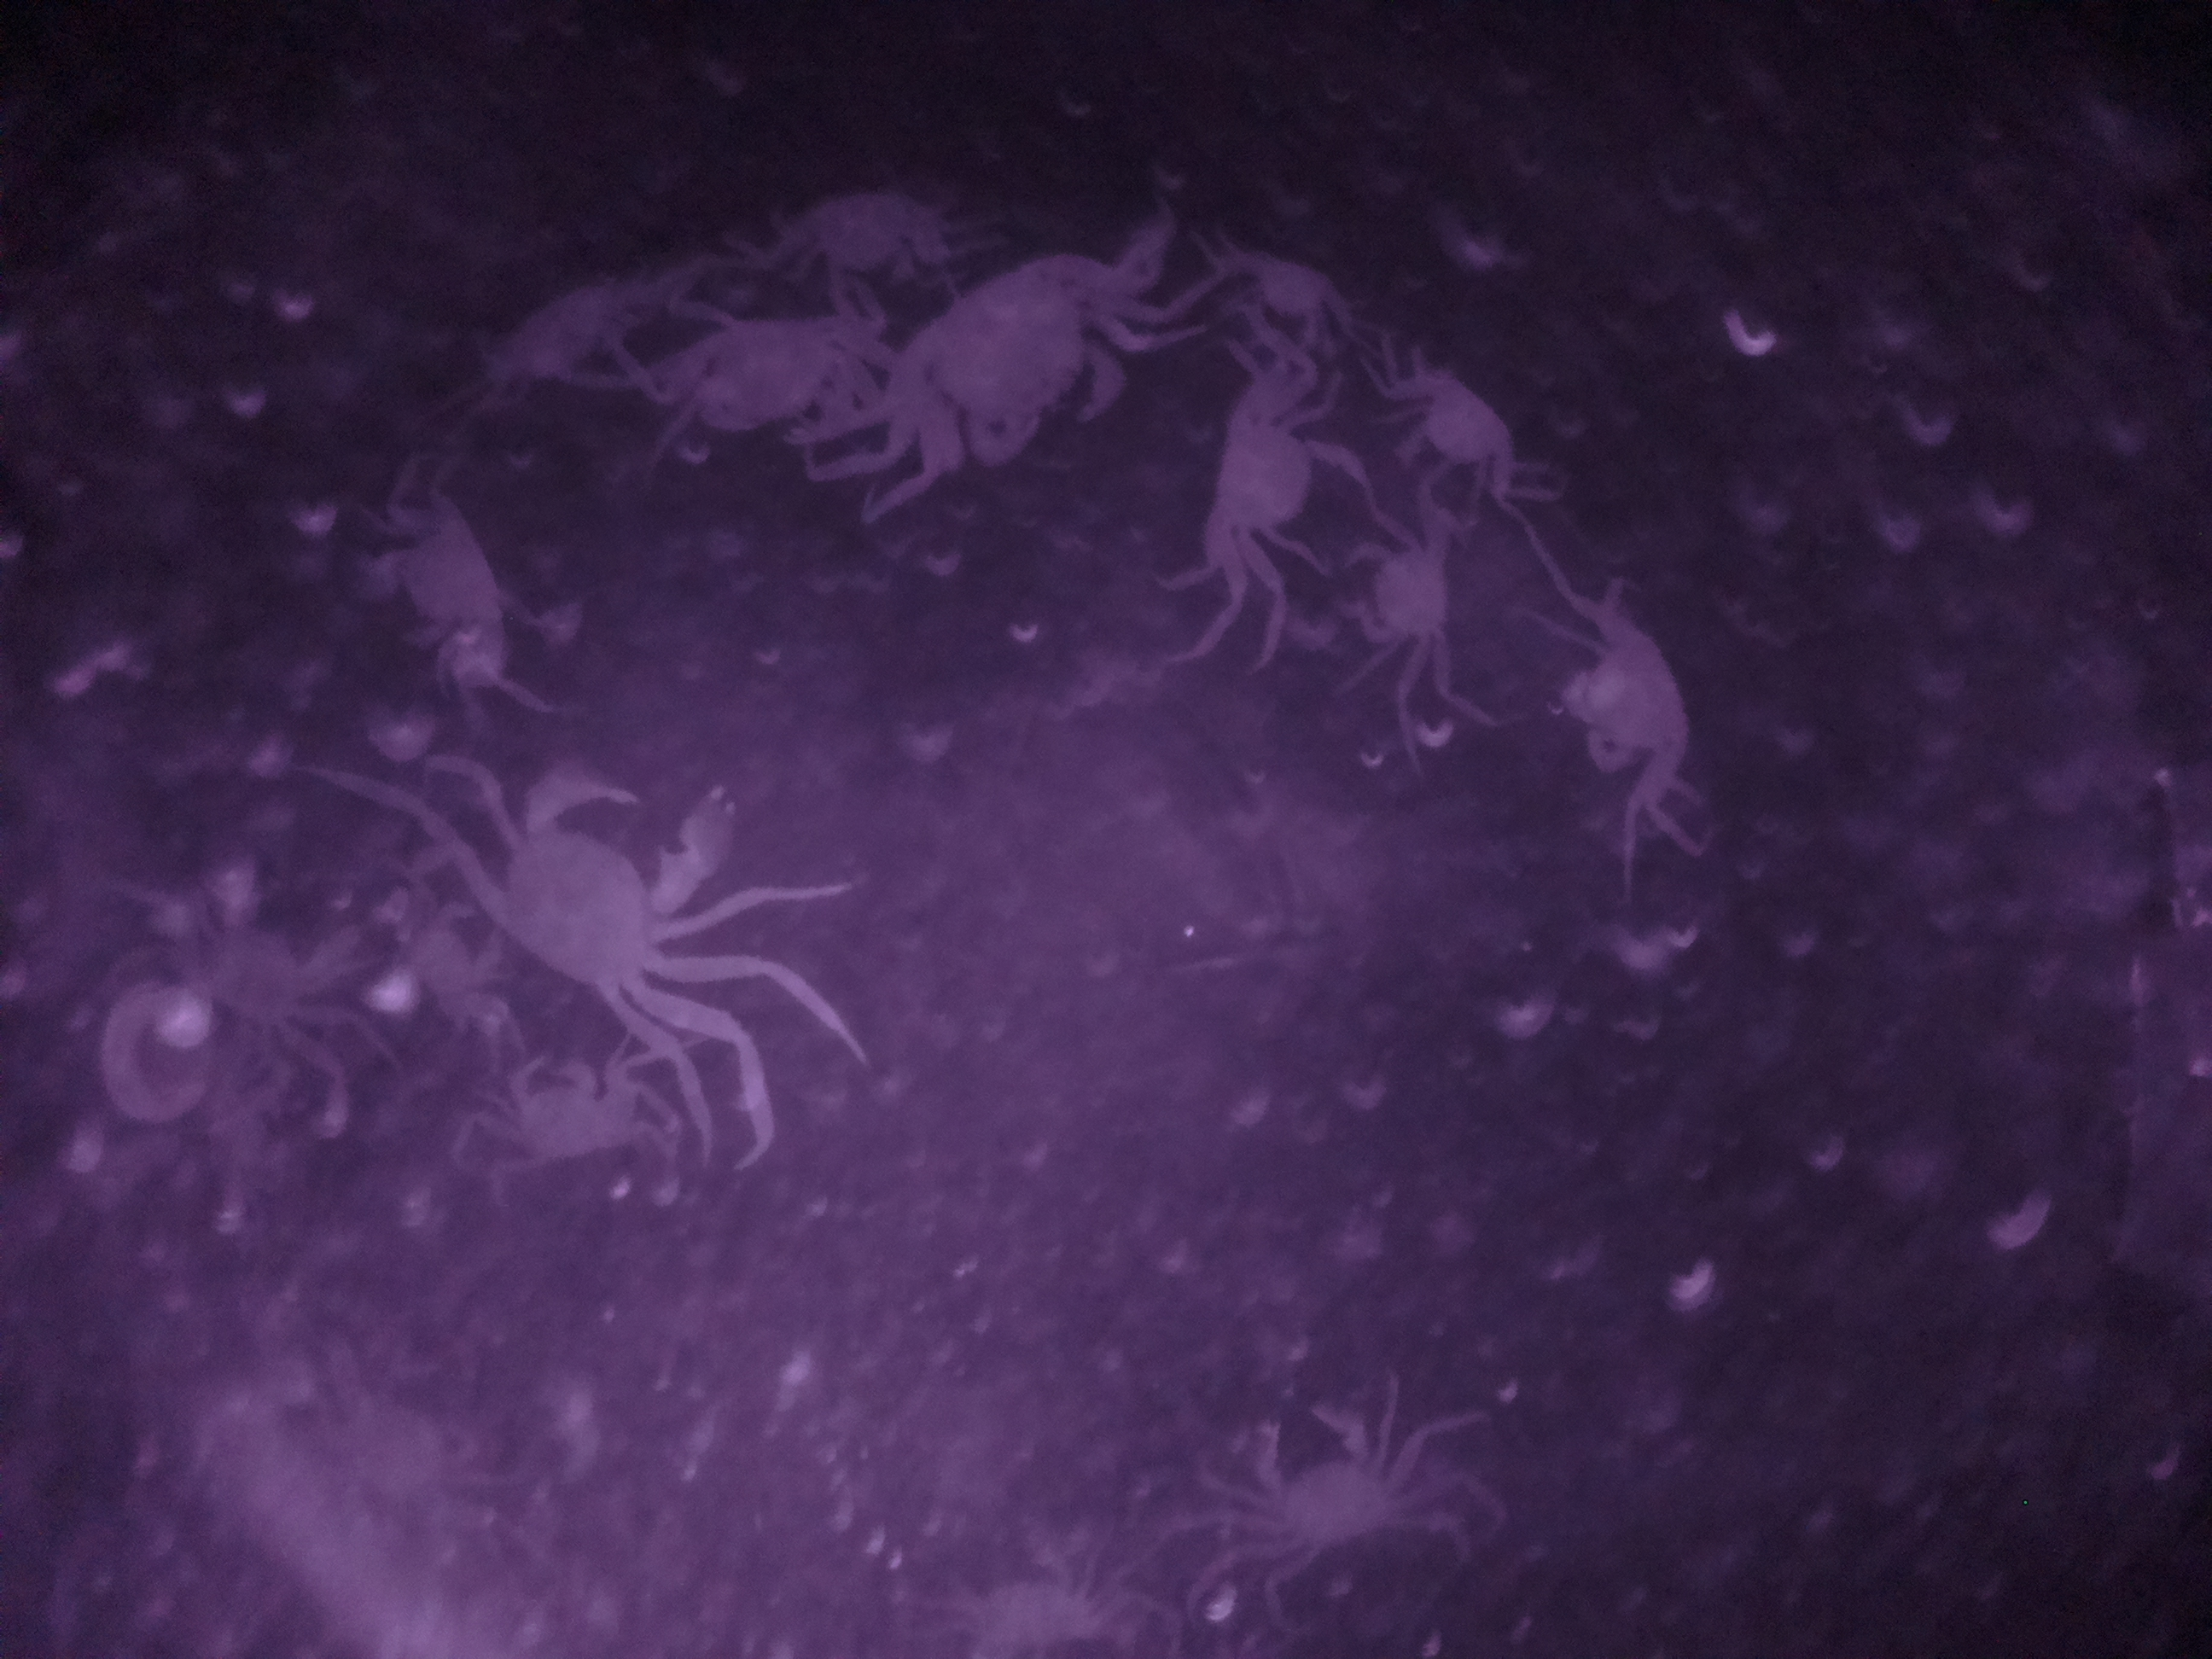Crab: (462, 744, 754, 1021), (887, 237, 1150, 477), (1170, 385, 1371, 582), (1221, 1380, 1411, 1575), (1548, 629, 1714, 807), (482, 1039, 632, 1169), (1388, 373, 1529, 505)
